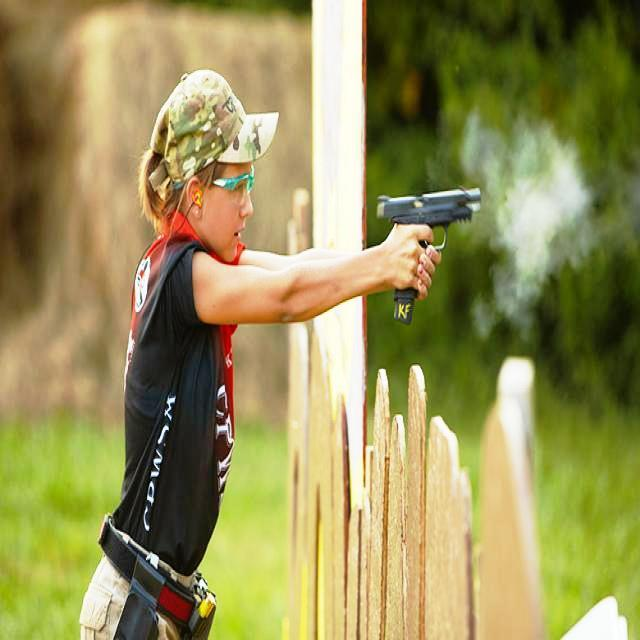Gun: (373, 166, 481, 302)
